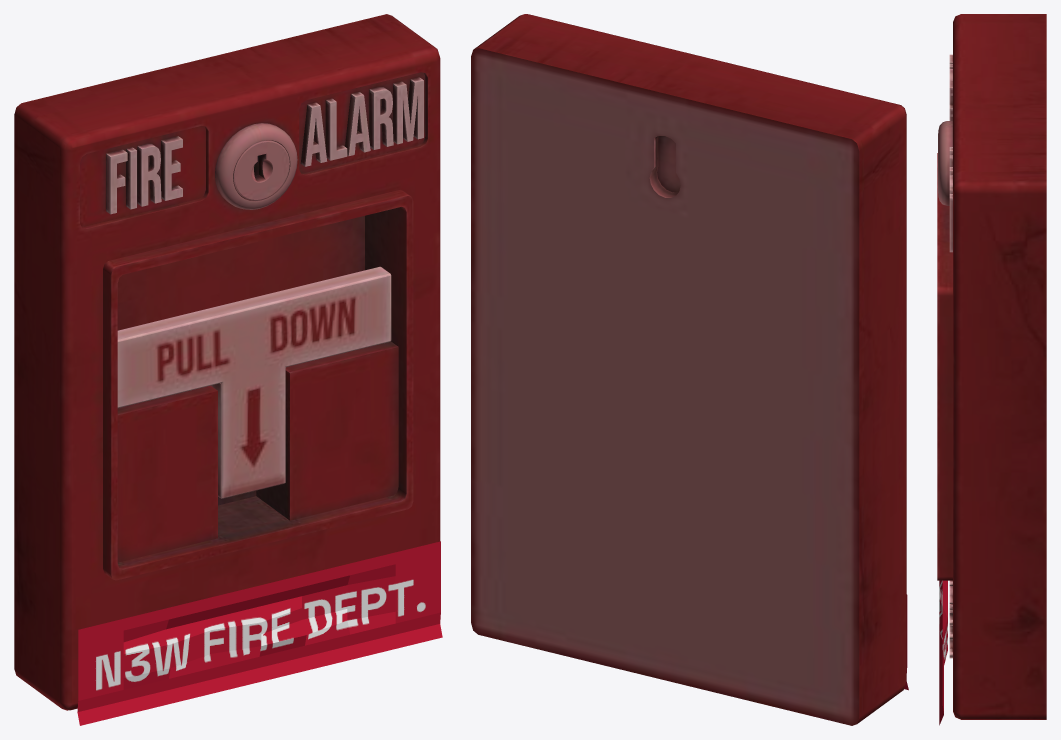
The model's file is nyb_sweet_alarm.glb.
3 renders of one model, left to right at view 1: azimuth 30°, elevation 25°; view 2: azimuth 150°, elevation 25°; view 3: azimuth 270°, elevation 25°, orthographic. The views are drawn at different scales.
Visible parts, largest first — view 1: fire_alarm, stk_lbl_3a373c8829.png; view 2: fire_alarm; view 3: fire_alarm, stk_lbl_3a373c8829.png.
Part boxes in pixels (<box>): fire_alarm: <box>14,14,440,710</box>; stk_lbl_3a373c8829.png: <box>77,541,442,725</box>; fire_alarm: <box>471,14,906,725</box>; fire_alarm: <box>937,14,1046,719</box>; stk_lbl_3a373c8829.png: <box>939,580,947,725</box>.
Bounding box in the file's own units: 0.0995 × 0.1455 × 0.0264.
Materials: 2 (2 with a texture image).
